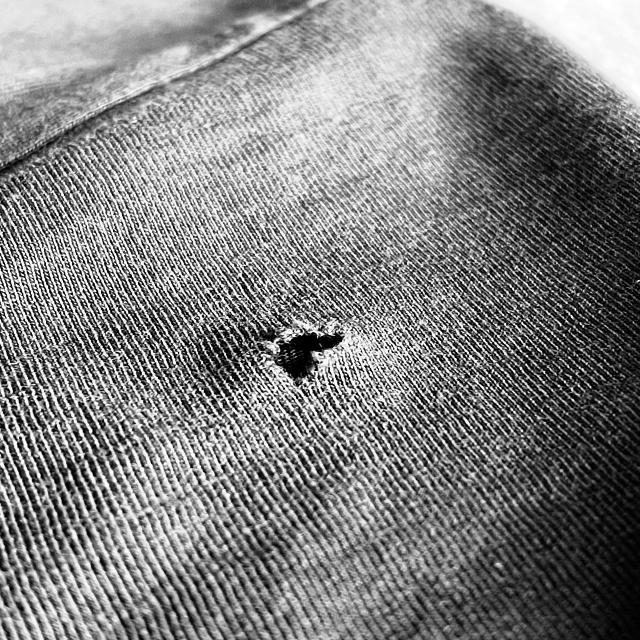Hole: (250, 310, 352, 387)
